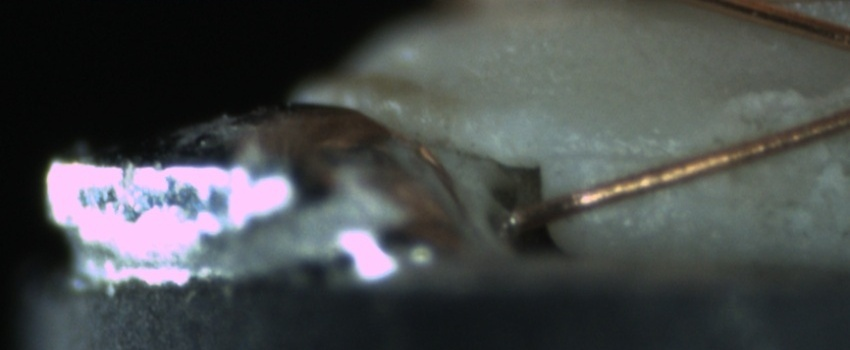DL: (559, 124, 697, 183)
